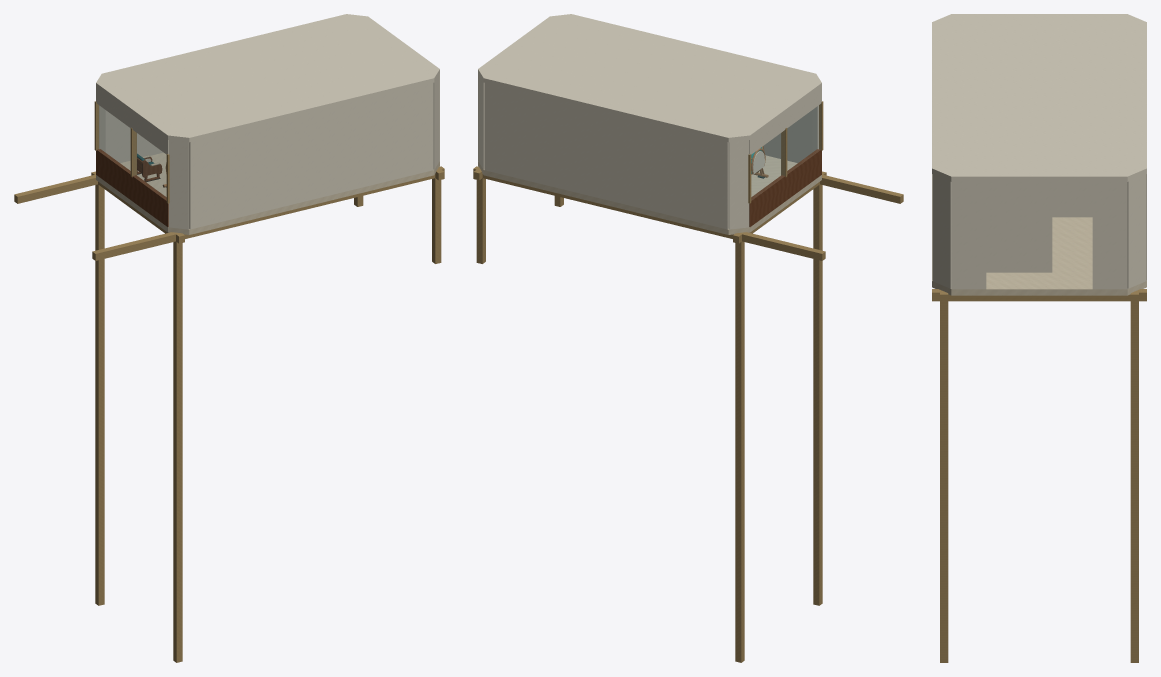
File: D04_PORT_AFT_HOME_888_r001.glb
3 views of the same model, side by side, from view 1: azimuth 30°, elevation 25°; view 2: azimuth 150°, elevation 25°; view 3: azimuth 270°, elevation 25° (orthographic). The views are drawn at different scales.
Parts seen in each view (by area): view 1: PA888_D04SH883_Roof, PA888_D04SH883_Shell_7, PA888_D04SH883_Pier_1, PA888_D04SH883_Pier_2, PA888_D04SH883_GardenGlass, PA888_D04SH883_Floor, PA888_D04SH883_GardenDado, PA888_D04SH883_FloorCross_0, PA888_D04SH883_Shell_0, PA888_D04SH883_Shell_3, PA888_D04SH883_GardenHead, PA888_D04SH883_FloorCross_1 (+1 smaller); view 2: PA888_D04SH883_Roof, PA888_D04SH883_Shell_3, PA888_D04SH883_Pier_2, PA888_D04SH883_Pier_1, PA888_D04SH883_Floor, PA888_D04SH883_GardenGlass, PA888_D04SH883_GardenDado, PA888_D04SH883_FloorCross_1, PA888_D04SH883_Shell_2, PA888_D04SH883_Shell_7, PA888_D04SH883_GardenHead, PA888_D04SH883_FloorCross_0 (+1 smaller); view 3: PA888_D04SH883_Roof, PA888_D04SH883_Floor, PA888_D04SH883_EntryWall_0, PA888_D04SH883_EntryWall_1, PA888_D04SH883_EntryHeader, PA888_D04SH883_BathDogleg, PA888_D04SH883_Pier_1, PA888_D04SH883_Pier_2, PA888_D04SH883_Shell_4, PA888_D04SH883_Shell_6, PA888_D04SH883_Long_-46.349999999999994, PA888_D04SH883_Pier_3 (+1 smaller).
Boxes of the visible parts, left/top/right/bottom form: PA888_D04SH883_Roof: left=96, top=14, right=439, bottom=142; PA888_D04SH883_Shell_7: left=189, top=83, right=433, bottom=229; PA888_D04SH883_Pier_1: left=173, top=232, right=182, bottom=662; PA888_D04SH883_Pier_2: left=95, top=174, right=104, bottom=605; PA888_D04SH883_GardenGlass: left=98, top=107, right=166, bottom=198; PA888_D04SH883_Floor: left=96, top=152, right=439, bottom=234; PA888_D04SH883_GardenDado: left=96, top=149, right=168, bottom=226; PA888_D04SH883_FloorCross_0: left=92, top=166, right=444, bottom=260; PA888_D04SH883_Shell_0: left=168, top=140, right=189, bottom=229; PA888_D04SH883_Shell_3: left=105, top=110, right=163, bottom=162; PA888_D04SH883_GardenHead: left=96, top=87, right=168, bottom=154; PA888_D04SH883_FloorCross_1: left=14, top=175, right=97, bottom=203; PA888_D04SH883_Roof: left=478, top=14, right=821, bottom=142; PA888_D04SH883_Shell_3: left=484, top=83, right=728, bottom=229; PA888_D04SH883_Pier_2: left=735, top=232, right=744, bottom=662; PA888_D04SH883_Pier_1: left=813, top=174, right=822, bottom=605; PA888_D04SH883_Floor: left=478, top=155, right=821, bottom=234; PA888_D04SH883_GardenGlass: left=751, top=107, right=817, bottom=196; PA888_D04SH883_GardenDado: left=749, top=149, right=821, bottom=226; PA888_D04SH883_FloorCross_1: left=473, top=166, right=825, bottom=260; PA888_D04SH883_Shell_2: left=728, top=140, right=749, bottom=229; PA888_D04SH883_Shell_7: left=763, top=110, right=812, bottom=162; PA888_D04SH883_GardenHead: left=749, top=87, right=821, bottom=154; PA888_D04SH883_FloorCross_0: left=820, top=175, right=903, bottom=203; PA888_D04SH883_Roof: left=932, top=14, right=1146, bottom=181; PA888_D04SH883_Floor: left=932, top=217, right=1146, bottom=295; PA888_D04SH883_EntryWall_0: left=951, top=182, right=986, bottom=289; PA888_D04SH883_EntryWall_1: left=1092, top=182, right=1127, bottom=289; PA888_D04SH883_EntryHeader: left=986, top=182, right=1092, bottom=217; PA888_D04SH883_BathDogleg: left=986, top=217, right=1052, bottom=272; PA888_D04SH883_Pier_1: left=940, top=406, right=948, bottom=662; PA888_D04SH883_Pier_2: left=1130, top=406, right=1138, bottom=662; PA888_D04SH883_Shell_4: left=1127, top=174, right=1145, bottom=288; PA888_D04SH883_Shell_6: left=933, top=174, right=951, bottom=288; PA888_D04SH883_Long_-46.349999999999994: left=932, top=289, right=1146, bottom=301; PA888_D04SH883_Pier_3: left=940, top=290, right=948, bottom=406.
Bounding box in the file's own units: 16.55 × 23.78 × 7.2.
36 materials, 21 textured.
